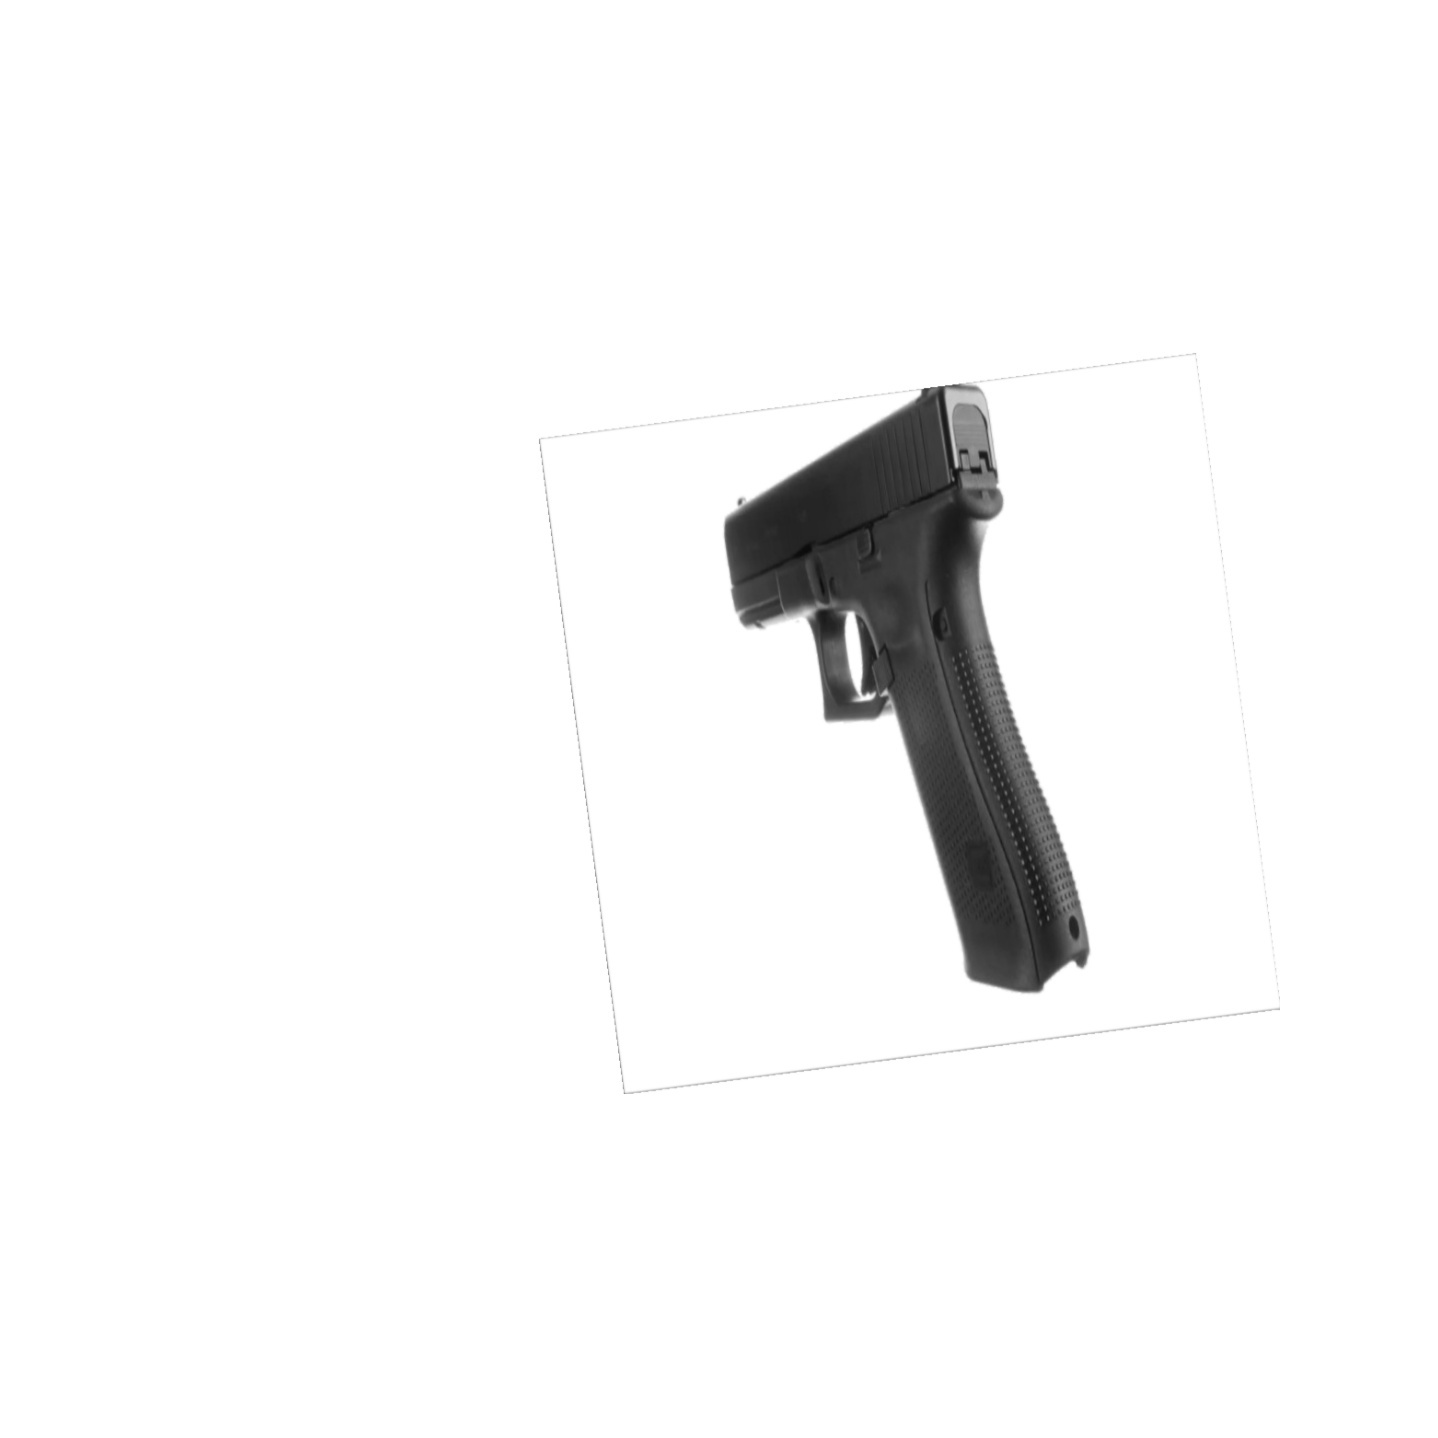gun: (716, 373, 1121, 1006)
